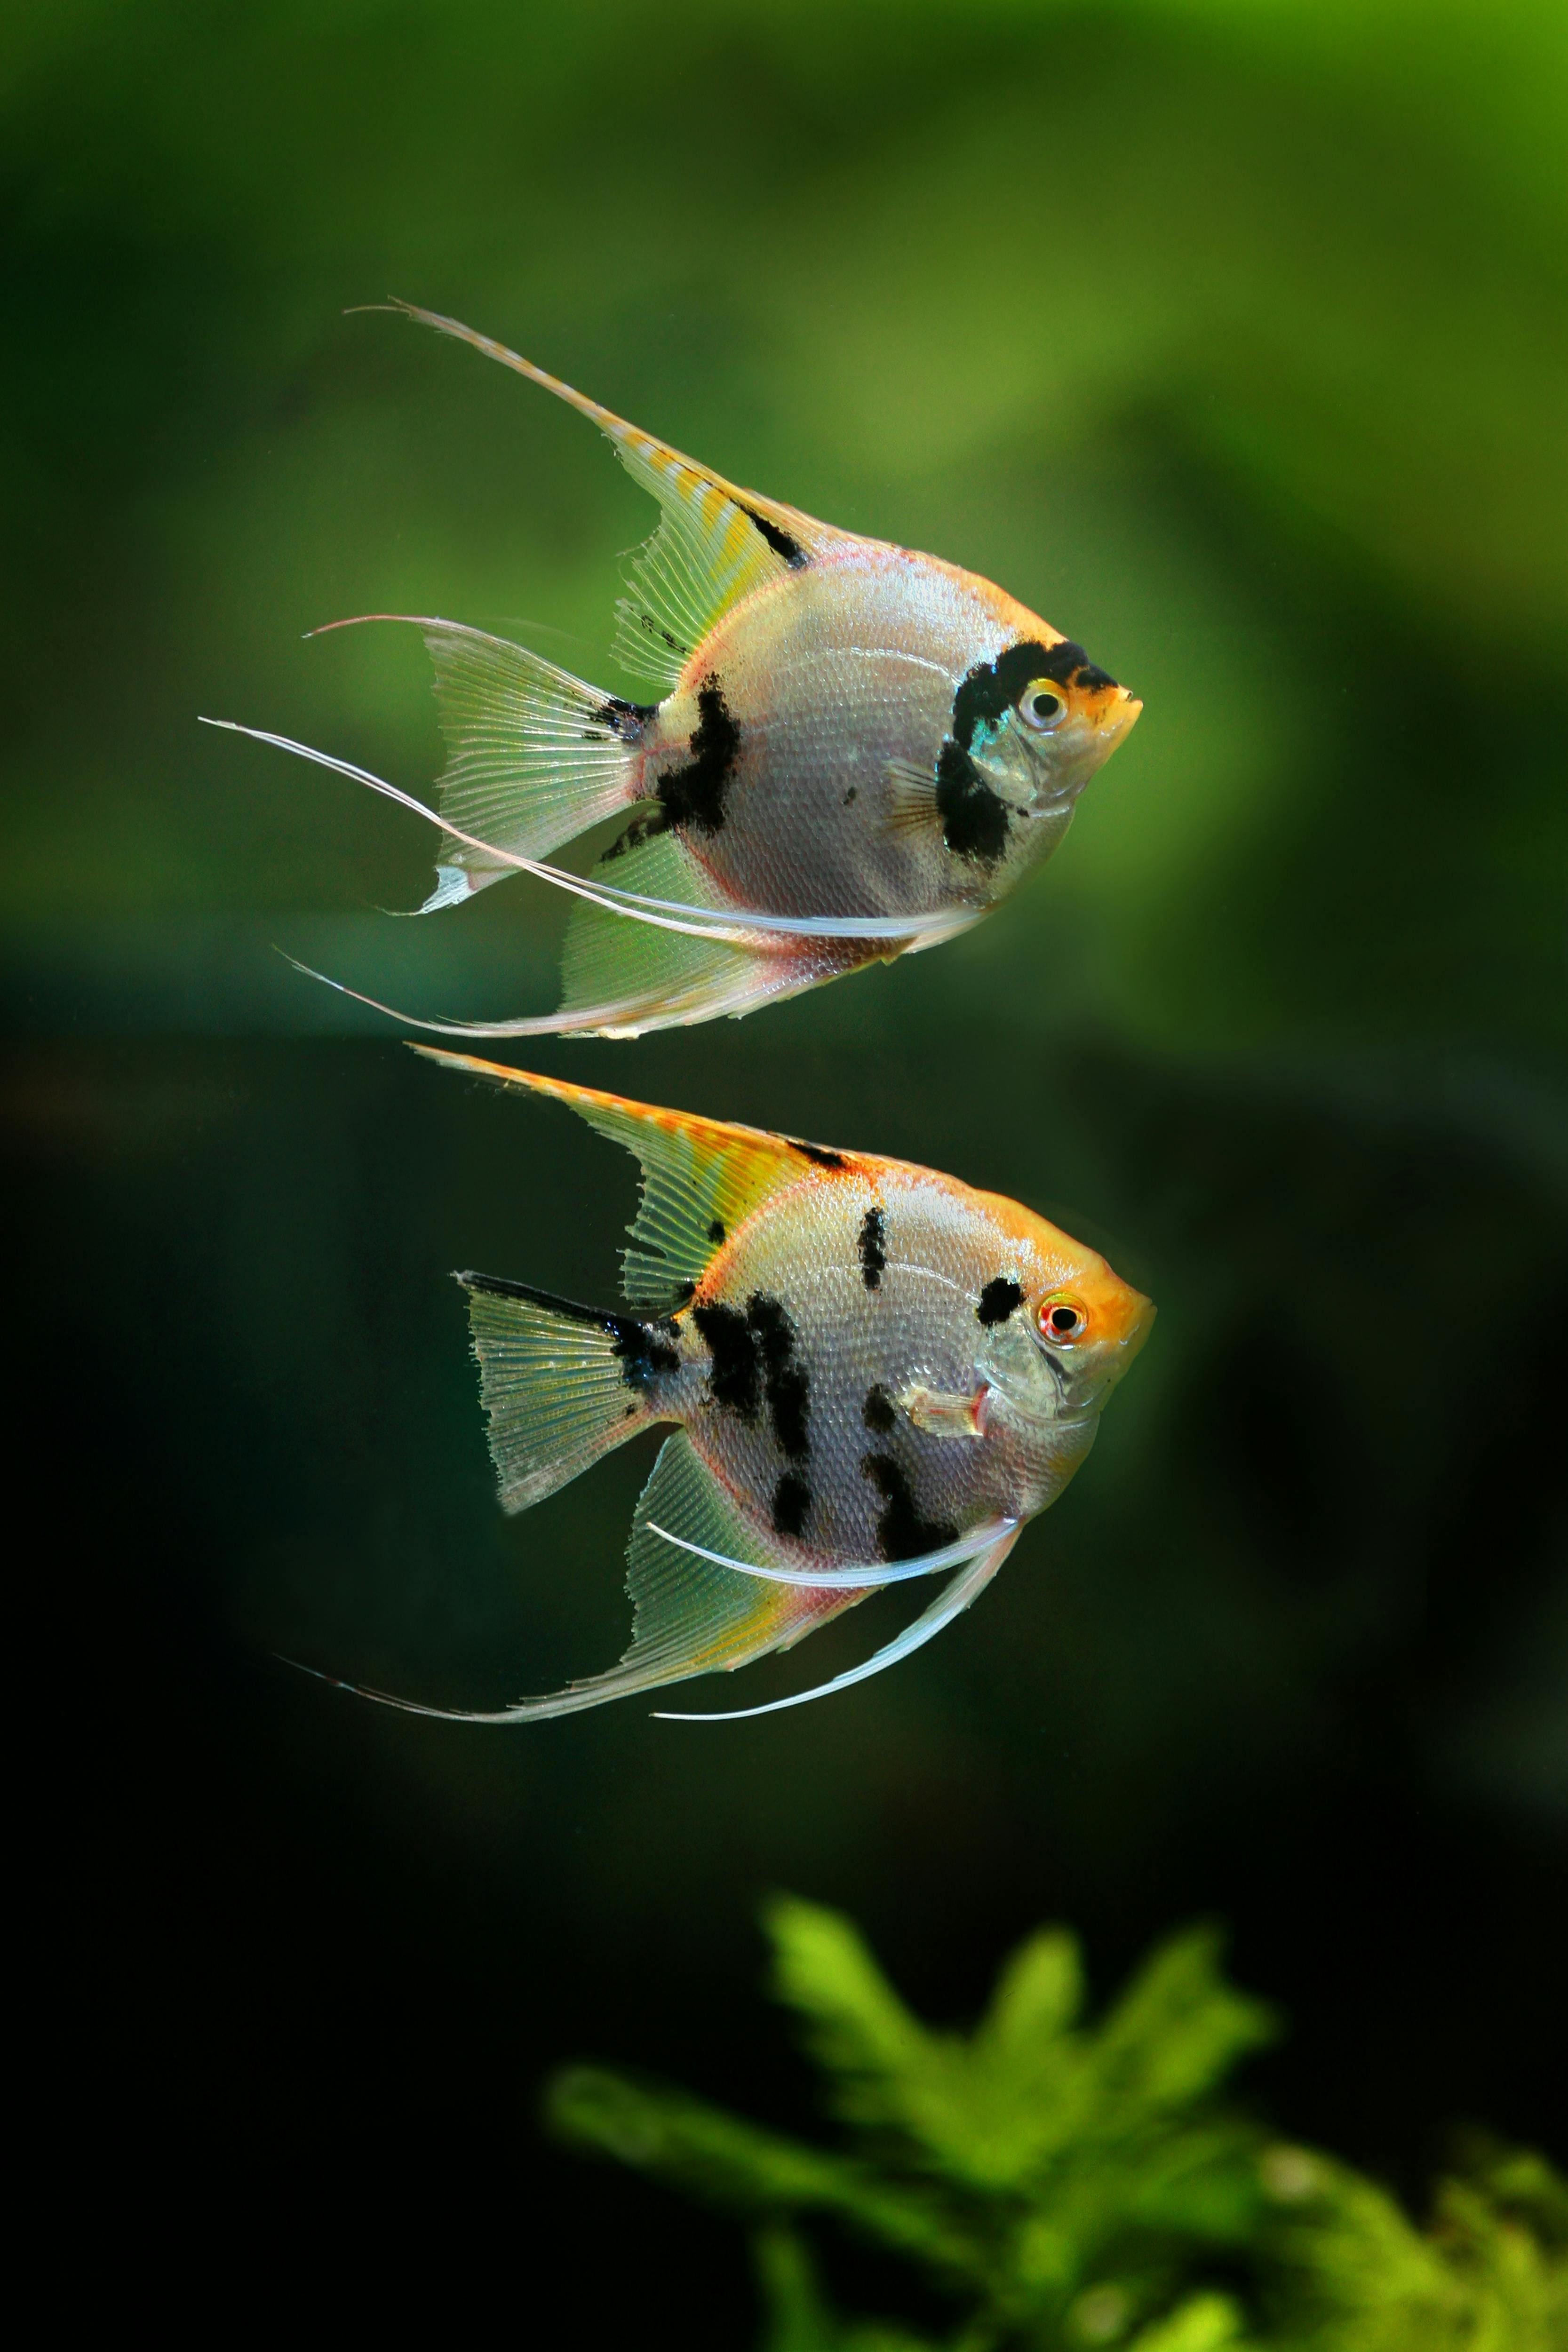fishRound: (196, 299, 1144, 1045), (292, 1036, 1144, 1731)
